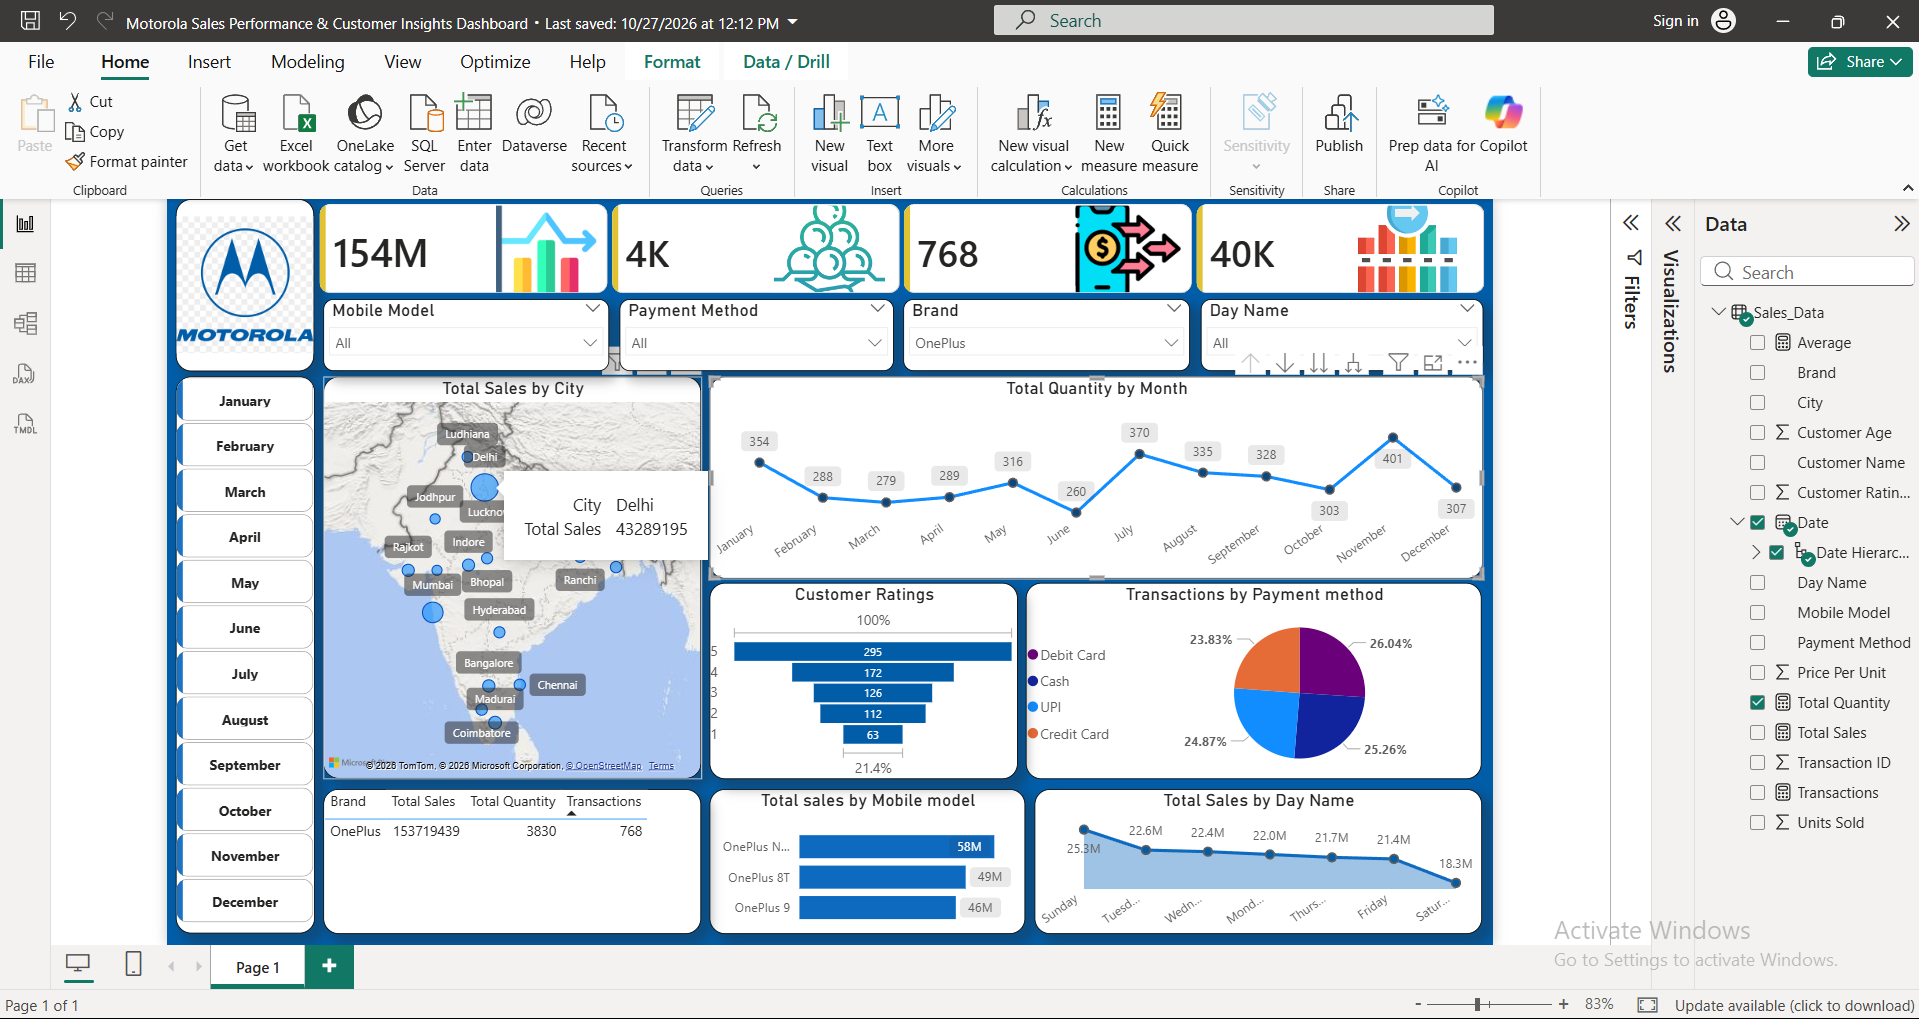

Layout of this report page (visuals, bound fields, positions):
{"tool":"powerbi","page":{"name":"Page 1","canvas":[1280,720],"ordinal":0},"visuals":[{"type":"image","box":[8.4,0,133.9,166.5],"z":0},{"type":"advancedSlicerVisual","fields":{"Values":["Sales_Data.Date.Variation.Date Hierarchy.Month"]},"box":[8.2,171.5,134.5,537.9],"z":1000},{"type":"cardVisual","fields":{"Data":["Sales_Data.Total Sales","Sales_Data.Total Quantity","Sales_Data.Transactions","Sales_Data.Average"]},"box":[142.4,0,1137.7,96.5],"z":2000},{"type":"map","fields":{"Category":["Sales_Data.City"],"Size":["Sales_Data.Total Sales"]},"box":[150.9,171.5,365,388.3],"z":3000},{"type":"lineChart","title":"Total Quantity by Month","fields":{"Y":["Sales_Data.Total Quantity"],"Category":["Sales_Data.Date.Variation.Date Hierarchy.Month","Sales_Data.Date.Variation.Date Hierarchy.Day"]},"box":[524.2,171.5,746.5,194.9],"z":4000},{"type":"clusteredBarChart","title":"Total sales by Mobile model","fields":{"Category":["Sales_Data.Mobile Model"],"Y":["Sales_Data.Total Sales"]},"box":[524.2,569.5,304.6,140],"z":4001},{"type":"pieChart","title":"Transactions by Payment  method","fields":{"Category":["Sales_Data.Payment Method"],"Y":["Sales_Data.Transactions"]},"box":[828.8,370.4,440.4,189.4],"z":4002},{"type":"funnel","title":"Customer Ratings","fields":{"Category":["Sales_Data.Customer Ratings"],"Y":["CountNonNull(Sales_Data.Customer Ratings)"]},"box":[524.2,370.5,297.8,189.4],"z":4003},{"type":"areaChart","fields":{"Category":["Sales_Data.Day Name"],"Y":["Sales_Data.Total Sales"]},"box":[837.3,569.4,431.9,139.9],"z":4004},{"type":"tableEx","fields":{"Values":["Sales_Data.Brand","Sales_Data.Total Sales","Sales_Data.Total Quantity","Sales_Data.Transactions"]},"box":[150.9,569.5,365,140],"z":4005},{"type":"slicer","fields":{"Values":["Sales_Data.Mobile Model"]},"box":[150.9,96.1,275.8,70],"z":4006},{"type":"slicer","fields":{"Values":["Sales_Data.Payment Method"]},"box":[436.4,96.1,264.8,70],"z":4007},{"type":"slicer","fields":{"Values":["Sales_Data.Brand"]},"box":[710.8,96.1,277.2,70],"z":4008},{"type":"slicer","fields":{"Values":["Sales_Data.Day Name"]},"box":[997.6,96.1,273.1,70],"z":4009}]}

Visuals, with their boxes on the page's 1280x720 design canvas (x1, y1, x2, y2). These are canvas units, not pixel positions in the 1919x1019 screenshot, which may show the page scaled, cropped or inside an application window:
image: <box>8,0,142,166</box>
advancedSlicerVisual - Sales_Data.Date.Variation.Date Hierarchy.Month: <box>8,172,143,709</box>
cardVisual - Sales_Data.Total Sales x Sales_Data.Total Quantity: <box>142,0,1280,96</box>
map - Sales_Data.City x Sales_Data.Total Sales: <box>151,172,516,560</box>
"Total Quantity by Month" lineChart: <box>524,172,1271,366</box>
"Total sales by Mobile model" clusteredBarChart: <box>524,570,829,710</box>
"Transactions by Payment  method" pieChart: <box>829,370,1269,560</box>
"Customer Ratings" funnel: <box>524,370,822,560</box>
areaChart - Sales_Data.Day Name x Sales_Data.Total Sales: <box>837,569,1269,709</box>
tableEx - Sales_Data.Brand x Sales_Data.Total Sales: <box>151,570,516,710</box>
slicer - Sales_Data.Mobile Model: <box>151,96,427,166</box>
slicer - Sales_Data.Payment Method: <box>436,96,701,166</box>
slicer - Sales_Data.Brand: <box>711,96,988,166</box>
slicer - Sales_Data.Day Name: <box>998,96,1271,166</box>
